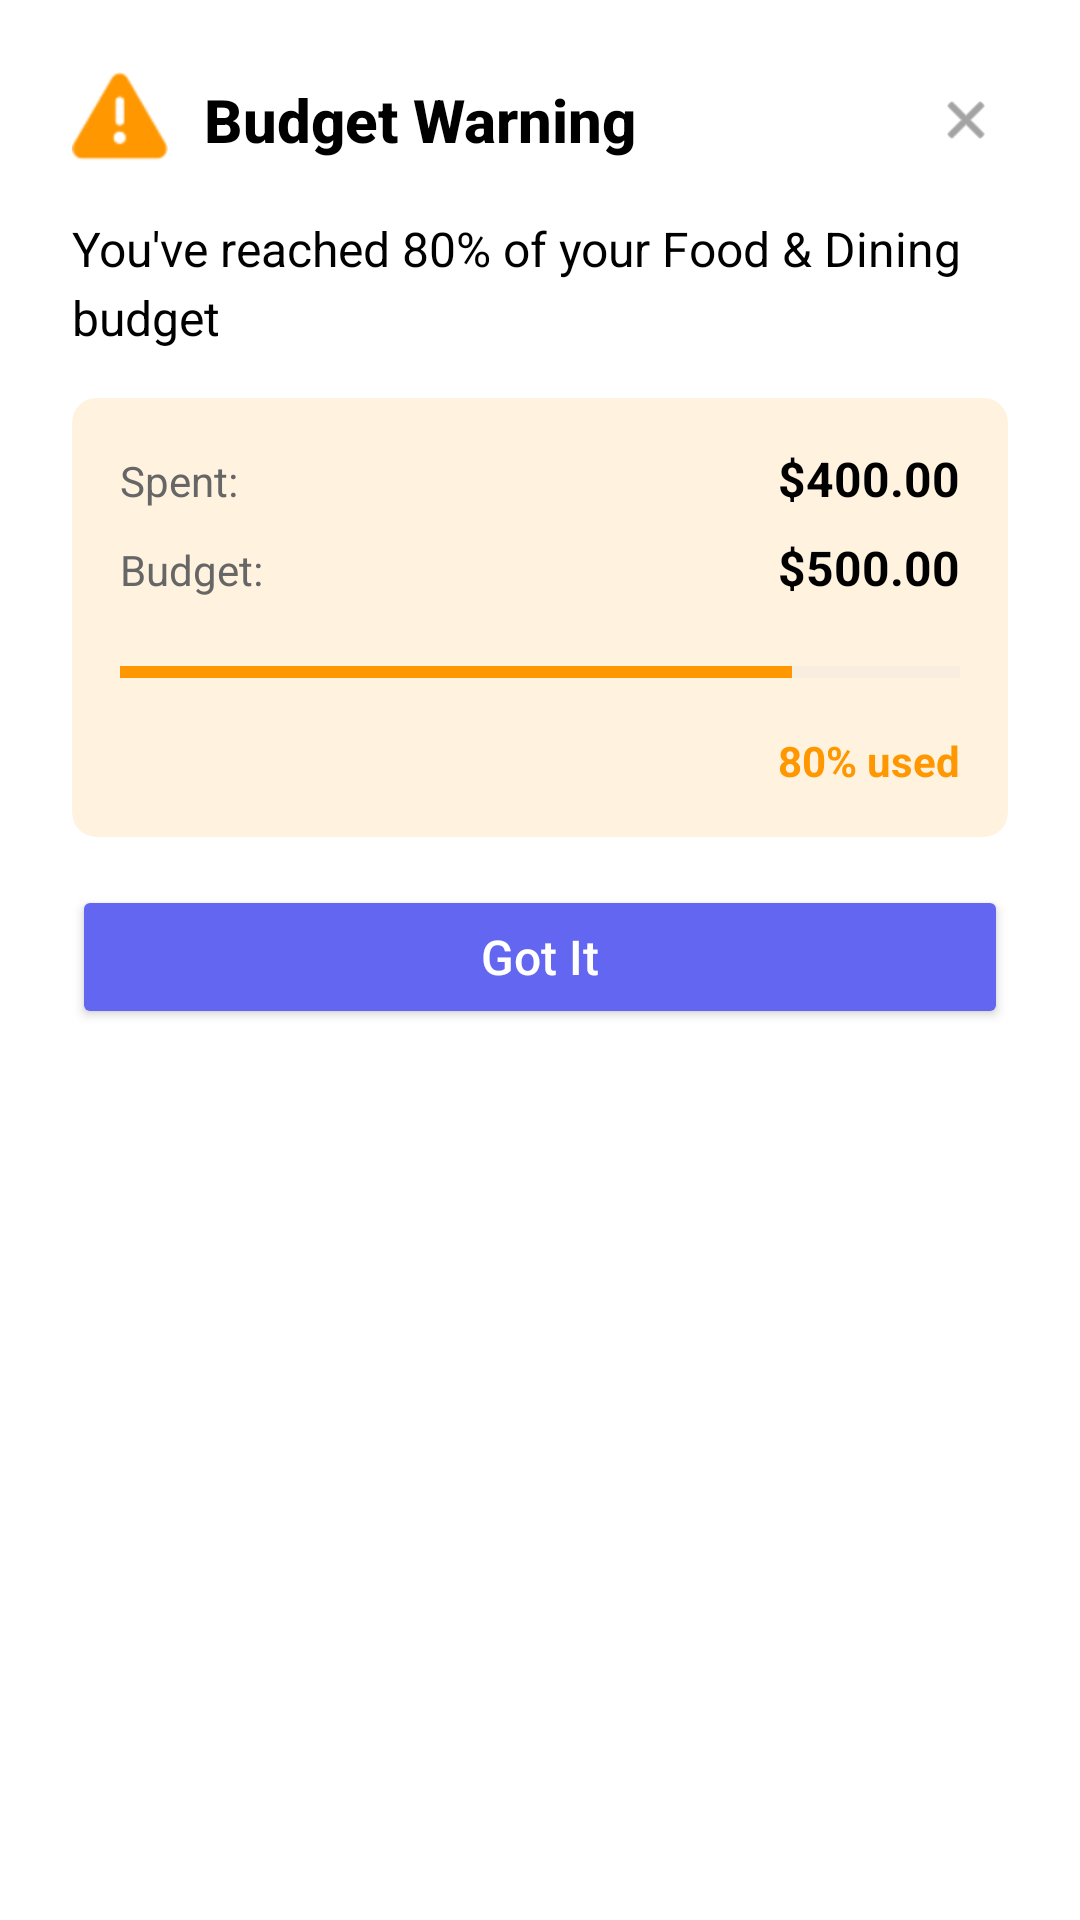

Icon click points for this 1080px×1920px phone screenshot, format [x,y]:
alert: [120,116]
close clear cancel: [966,120]
